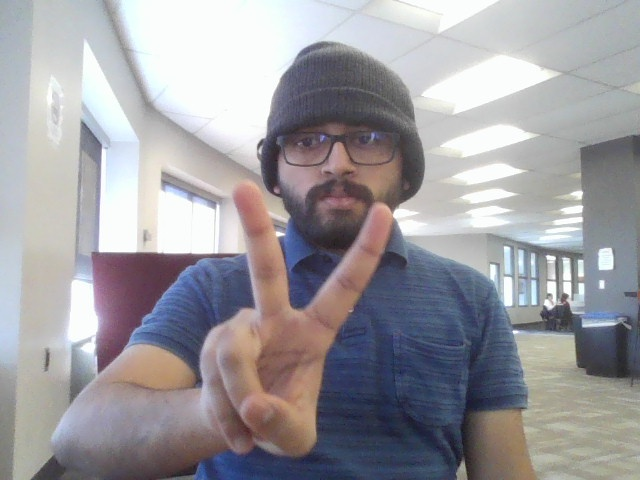start: (197, 176, 397, 465)
